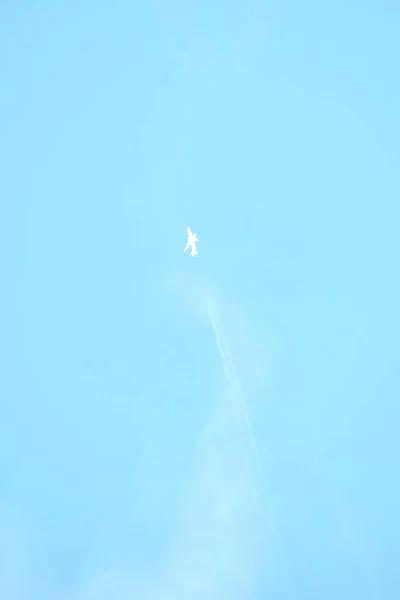Plane: (156, 215, 220, 266)
